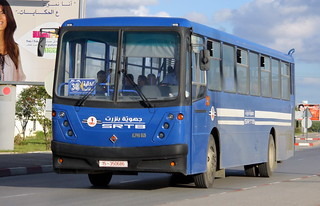bus: (52, 16, 296, 187)
